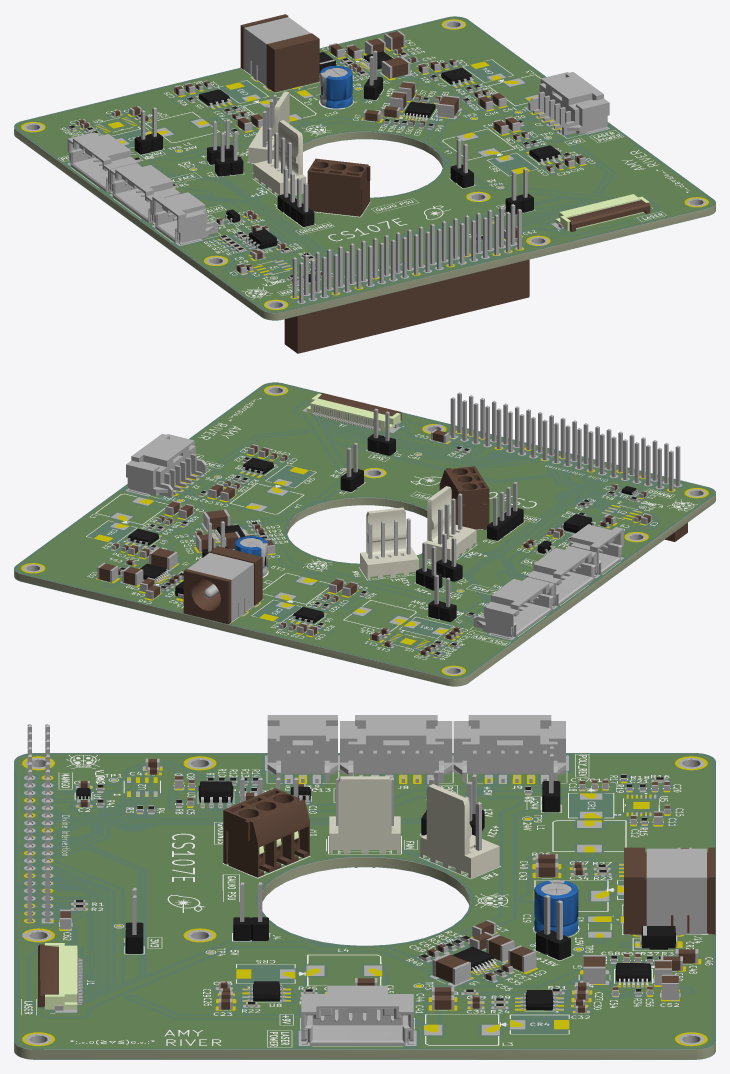
The model's file is laserbrain.glb.
3 views of the same model, one above another, from view 1: azimuth 30°, elevation 25°; view 2: azimuth 150°, elevation 25°; view 3: azimuth 270°, elevation 25° (orthographic). The views are drawn at different scales.
Parts seen in each view (by area): view 1: laserbrain; view 2: laserbrain; view 3: laserbrain.
Part boxes in pixels (x1,y1,x2,y2): laserbrain: (14,14,715,353); laserbrain: (14,382,715,686); laserbrain: (14,715,715,1059).
Bounding box in the file's own units: 0.1 × 0.0219 × 0.1.
